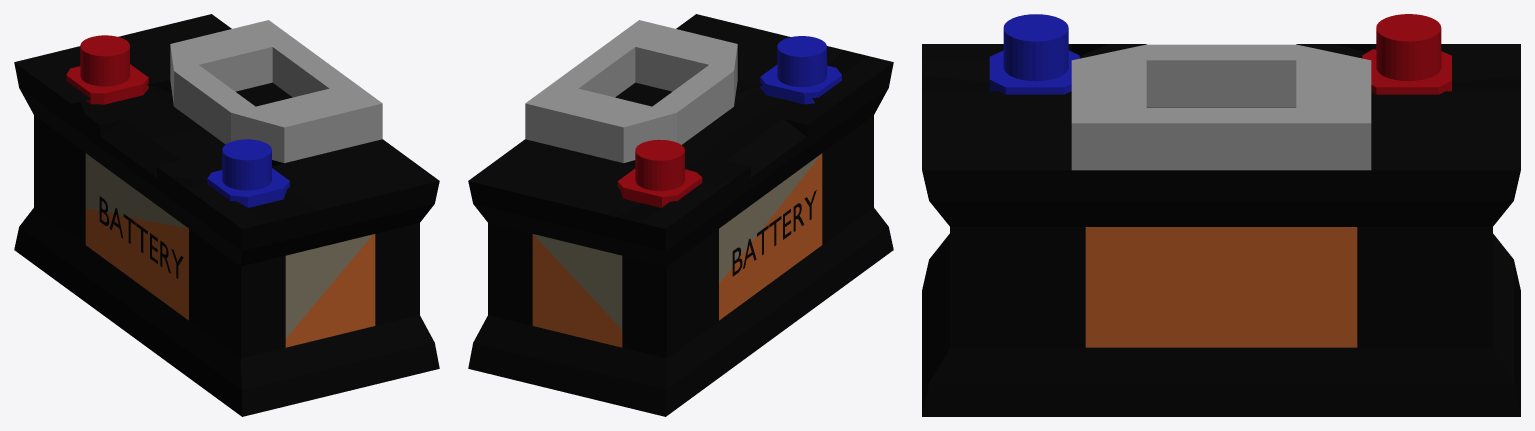
Rendered from Car_Battery.fbx.
The picture shows the model from 3 angles, left to right: view 1: azimuth 30°, elevation 25°; view 2: azimuth 150°, elevation 25°; view 3: azimuth 270°, elevation 25°; orthographic projection. The views are drawn at different scales.
Parts seen in each view (by area): view 1: Cube, S; view 2: Cube, S; view 3: Cube.
Part boxes in pixels (x1,y1,x2,y2): Cube: [14, 14, 439, 416]; S: [99, 196, 183, 278]; Cube: [468, 14, 893, 416]; S: [732, 190, 816, 276]; Cube: [922, 14, 1520, 416].
Bounding box in the file's own units: 110 × 119 × 221.
